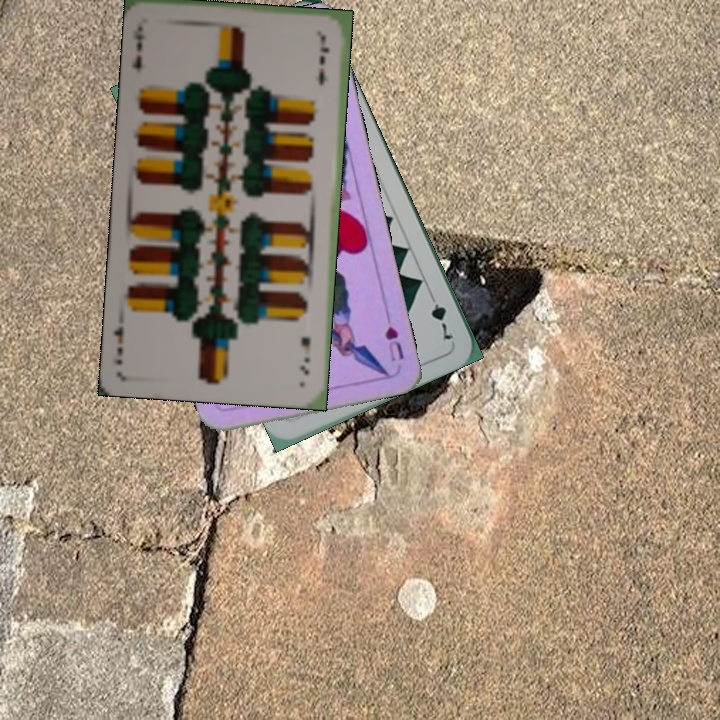E7: (128, 21, 147, 73), (295, 332, 313, 378)
G7: (425, 288, 456, 344)
HU: (381, 310, 407, 364)
